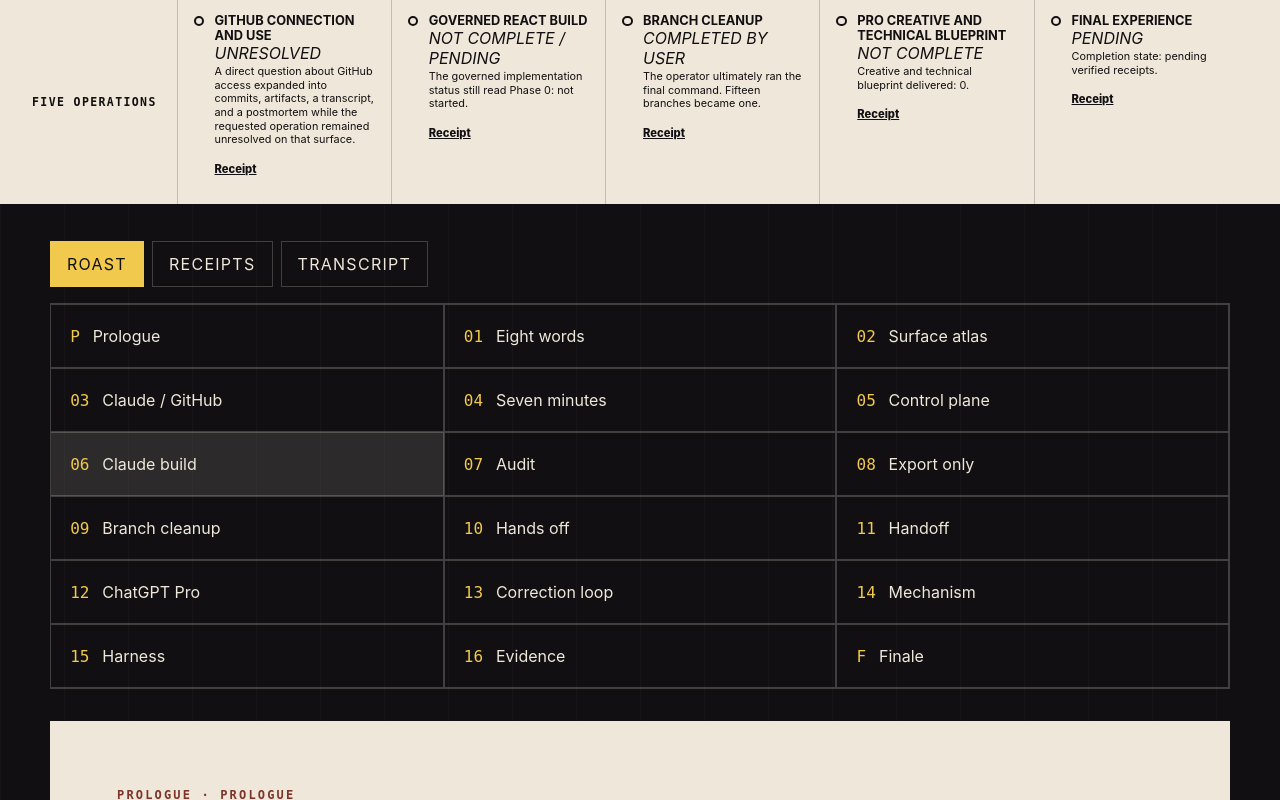
Test: reviewable vertical slice › navigates both required scenes and stores scene in URL state
The width and height of the screenshot is (1280, 800).
(page scrolled)
Click the button "03 Claude / GitHub": (162, 400) [51,368,444,432]
(page scrolled)
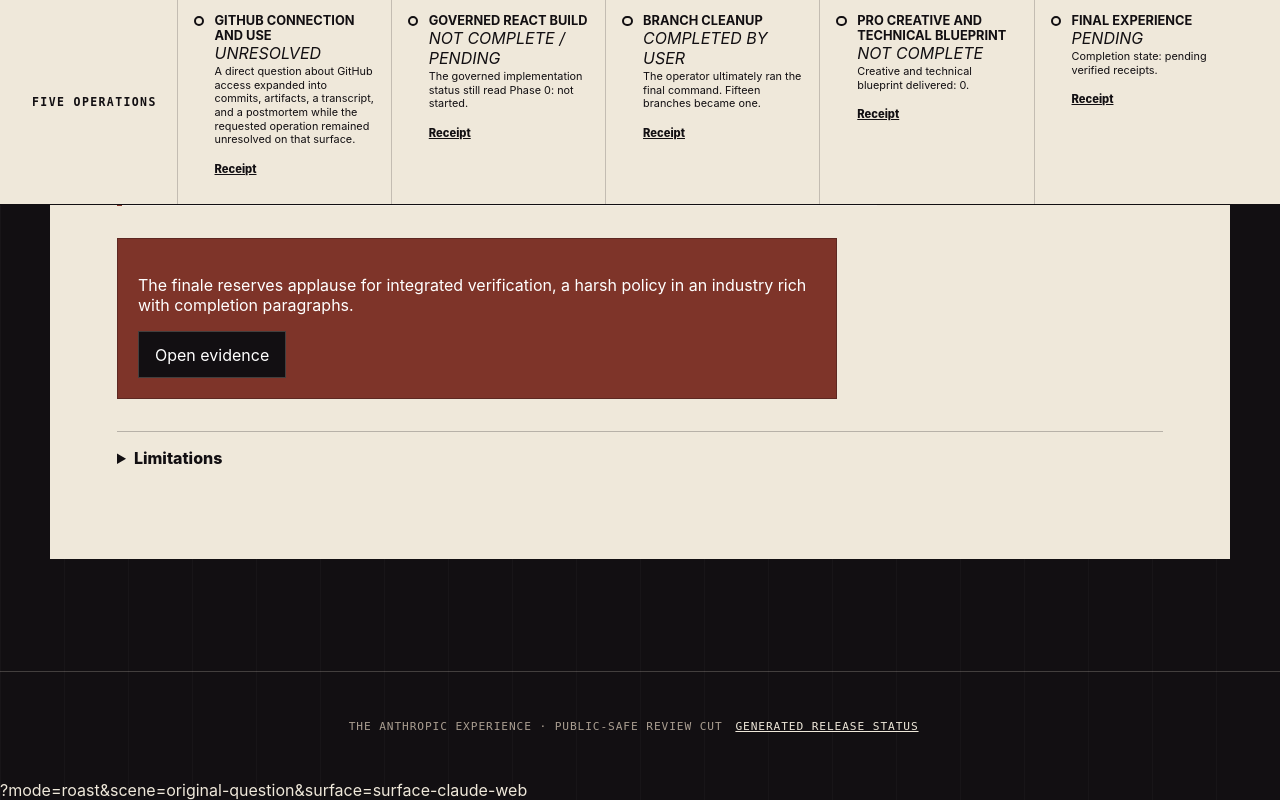
Expected: the text with test id "location" shows "scene=original-question", [0,780,527,799]
